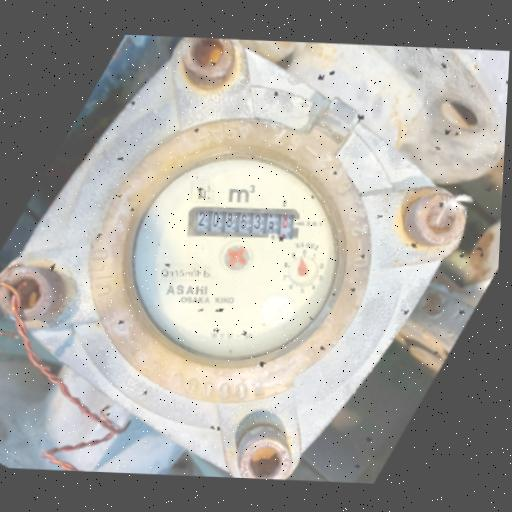0: (210, 211, 222, 231)
2: (195, 210, 209, 230)
3: (252, 211, 264, 232)
6: (238, 211, 250, 231)
8: (279, 213, 290, 238), (266, 212, 278, 232), (225, 211, 236, 231)
border_water_meter_number: (186, 203, 302, 240)
